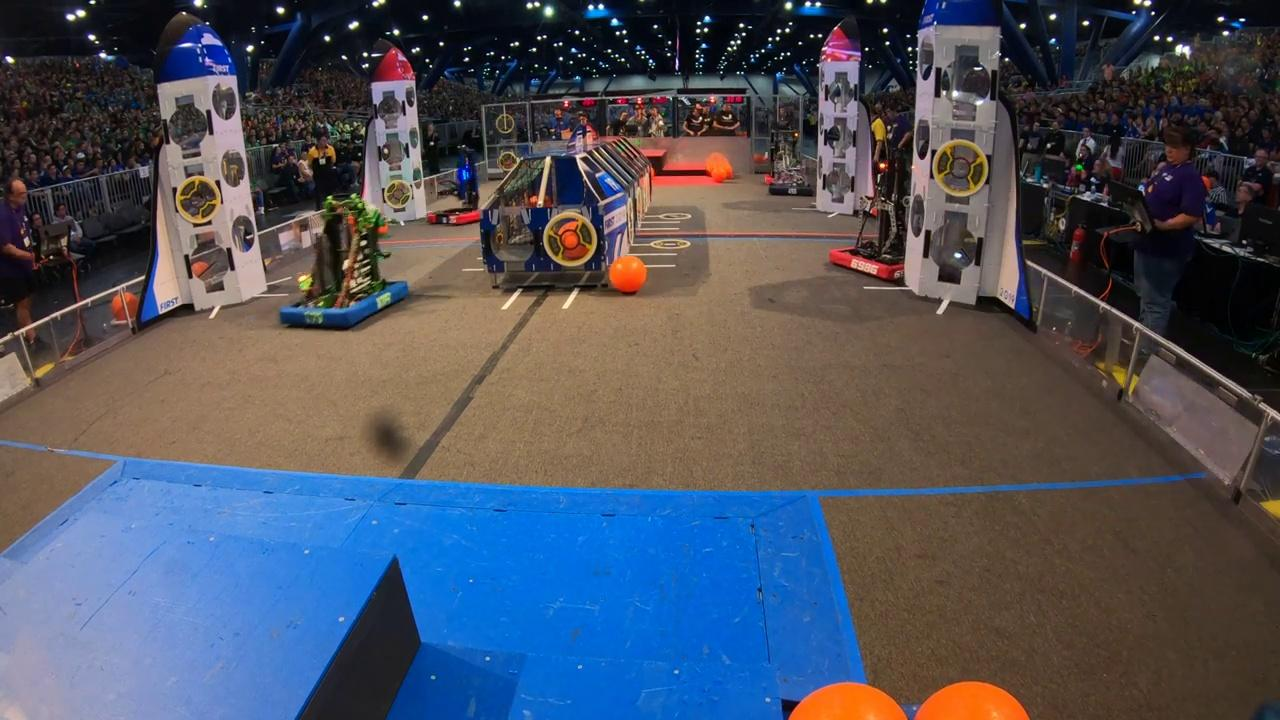robot: (275, 190, 411, 331), (825, 120, 938, 283), (423, 143, 487, 229), (766, 130, 817, 202)
